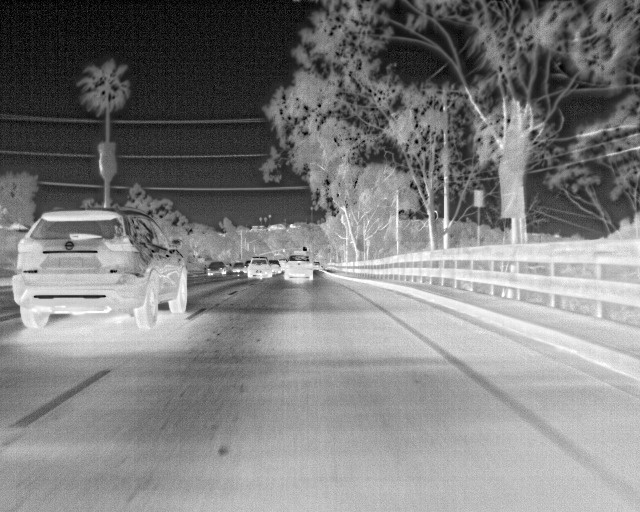vehicle: (13, 211, 190, 343), (283, 253, 316, 285), (247, 256, 272, 280), (204, 259, 229, 281), (230, 261, 247, 276)
